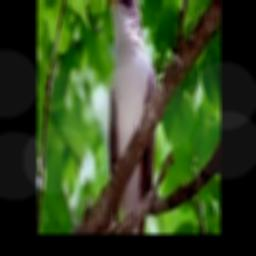Cuckoo: (98, 0, 157, 234)
